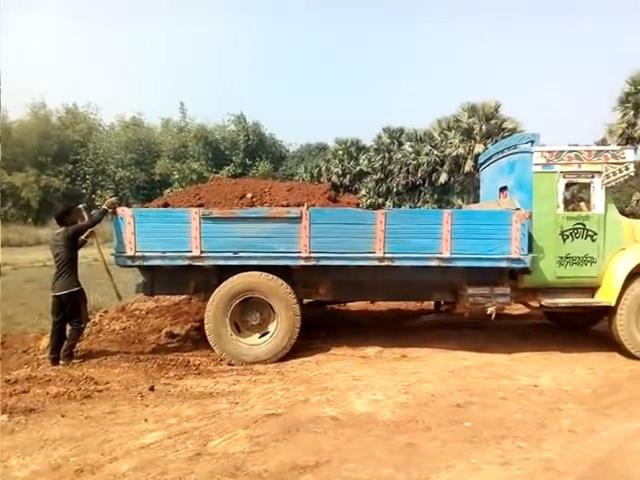truck: (78, 122, 640, 383)
